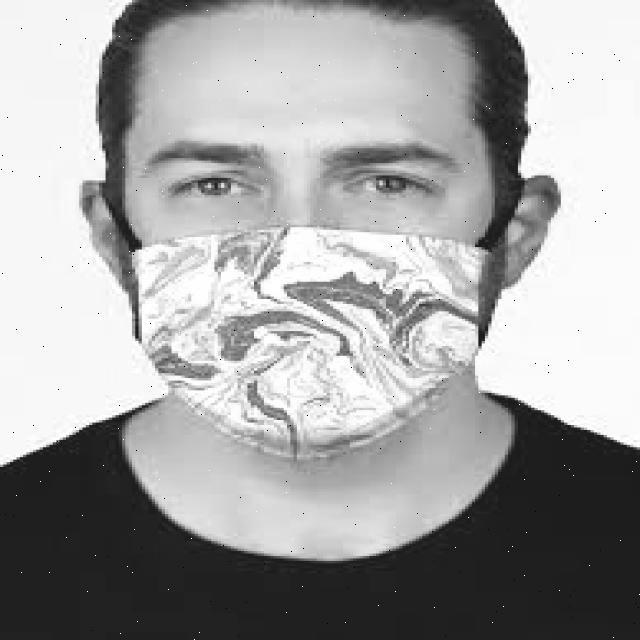fake: (133, 223, 492, 462)
real: (125, 5, 493, 466)
